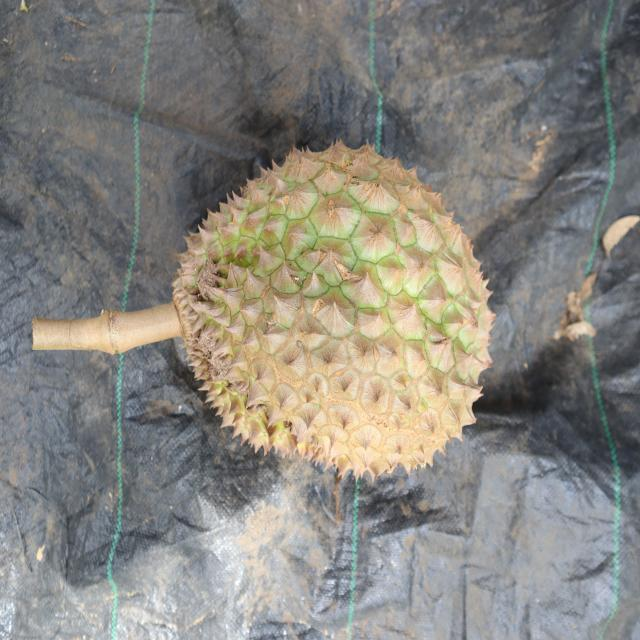mature: (172, 140, 495, 477)
